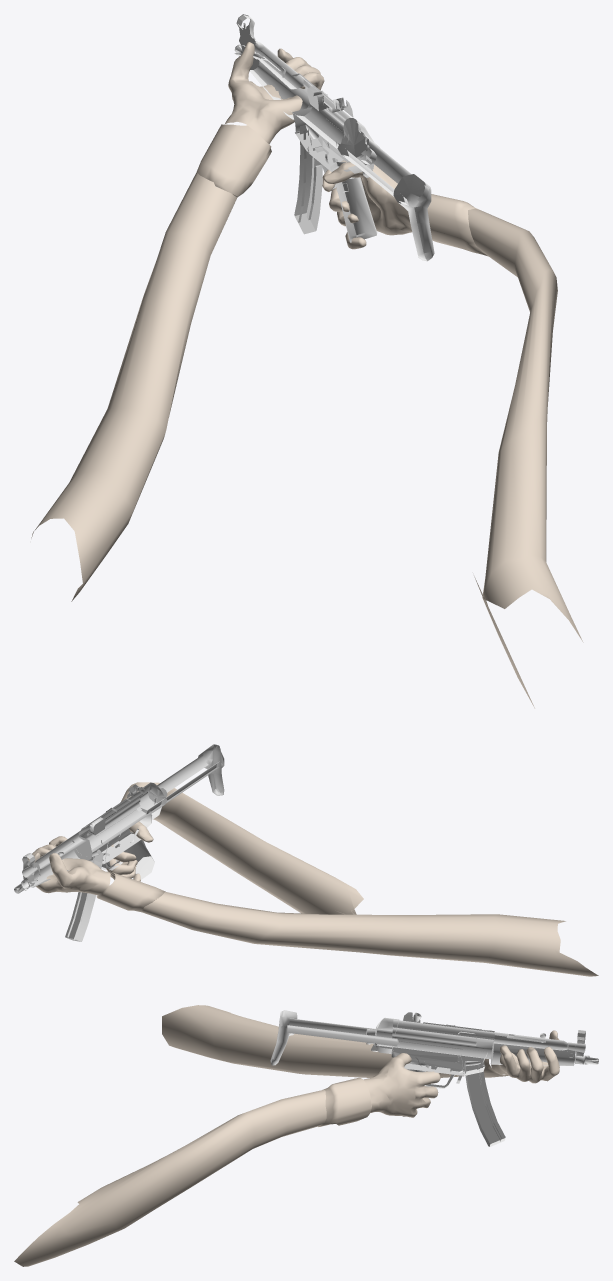
Rendered from mp5_posed.glb.
The picture shows the model from 3 angles, top to bottom: view 1: azimuth 30°, elevation 25°; view 2: azimuth 150°, elevation 25°; view 3: azimuth 270°, elevation 25°; orthographic projection. The views are drawn at different scales.
Visible parts, largest first — view 1: char, body; view 2: char, body; view 3: char, body.
Part boxes in pixels (bbox=[...]): char: bbox=[31, 42, 583, 708]; body: bbox=[234, 14, 434, 261]; char: bbox=[23, 782, 598, 976]; body: bbox=[14, 744, 224, 941]; char: bbox=[14, 1005, 559, 1266]; body: bbox=[270, 1010, 598, 1146].
Bounding box in the file's own units: 0.8929 × 0.5689 × 1.1.
